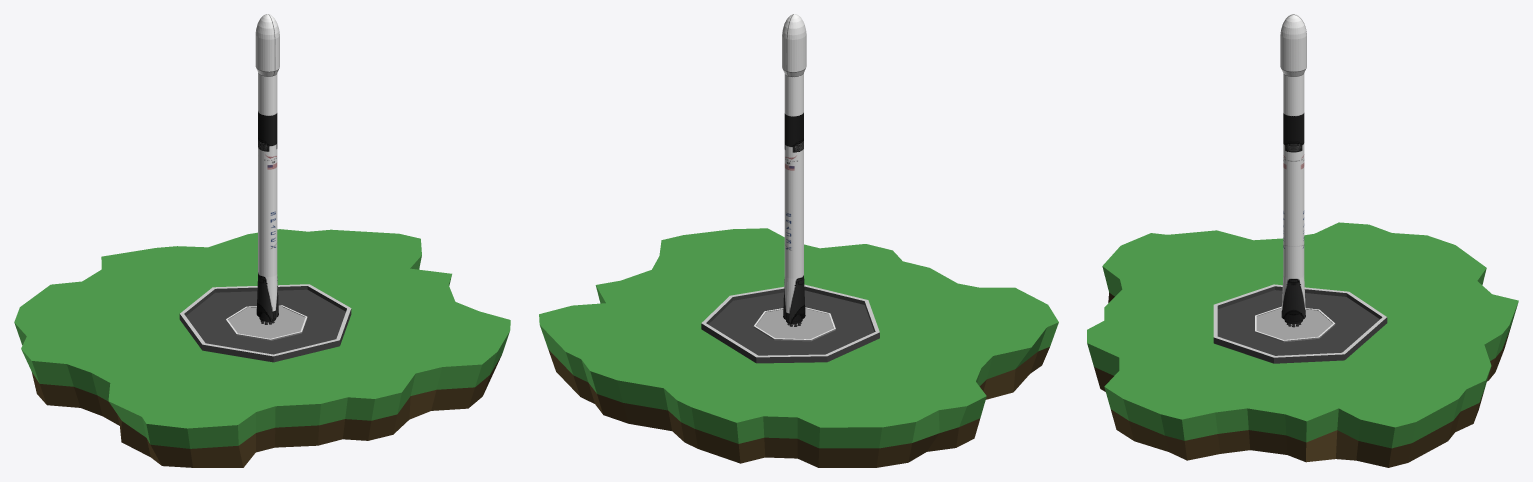
Rendered from falcon9-v2.gltf.
The picture shows the model from 3 angles, left to right: view 1: azimuth 30°, elevation 25°; view 2: azimuth 150°, elevation 25°; view 3: azimuth 270°, elevation 25°; orthographic projection.
Visible parts, largest first — view 1: Plane, Circle, Cylinder, Cylinder.001; view 2: Plane, Circle, Cylinder, Cylinder.001; view 3: Plane, Circle, Cylinder, Cylinder.001.
Boxes of the visible parts, left/top/right/bottom form: Plane: left=14, top=229, right=510, bottom=467; Circle: left=179, top=284, right=351, bottom=362; Cylinder: left=255, top=14, right=279, bottom=321; Cylinder.001: left=225, top=305, right=307, bottom=340; Plane: left=539, top=228, right=1058, bottom=467; Circle: left=701, top=284, right=879, bottom=363; Cylinder: left=782, top=14, right=806, bottom=323; Cylinder.001: left=753, top=307, right=835, bottom=341; Plane: left=1087, top=222, right=1518, bottom=467; Circle: left=1213, top=284, right=1387, bottom=363; Cylinder: left=1280, top=14, right=1306, bottom=323; Cylinder.001: left=1255, top=306, right=1335, bottom=342.
Size of the model in its own units: 8.06 by 6.61 by 7.18.
9 materials, 1 textured.
